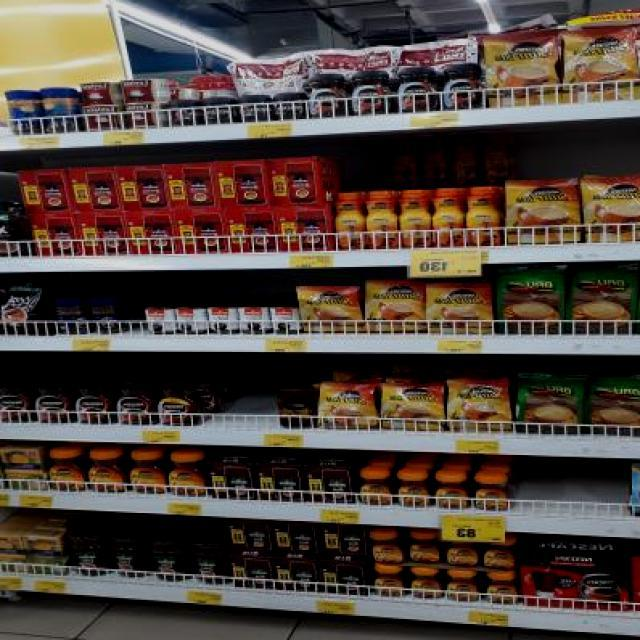Coffee: (483, 30, 561, 106), (564, 28, 636, 102), (508, 178, 576, 247), (587, 176, 640, 242), (447, 380, 510, 430), (430, 284, 490, 332), (383, 382, 444, 428), (366, 282, 424, 330), (302, 287, 360, 332), (318, 383, 376, 427), (467, 186, 503, 247), (158, 380, 204, 424), (439, 61, 481, 109), (350, 70, 391, 117), (396, 65, 434, 113), (400, 189, 430, 248), (368, 190, 398, 249), (336, 192, 365, 250), (434, 188, 462, 248), (308, 74, 346, 118), (76, 378, 112, 424), (36, 379, 72, 423), (116, 380, 152, 424), (170, 450, 206, 494), (88, 451, 126, 492), (129, 451, 164, 494), (474, 474, 512, 511), (0, 378, 32, 421), (52, 451, 84, 492), (398, 472, 432, 507), (436, 472, 468, 508), (484, 536, 520, 568), (360, 471, 392, 505), (198, 96, 235, 125), (487, 571, 520, 603), (447, 533, 479, 565), (372, 566, 404, 598), (371, 530, 402, 562), (411, 568, 442, 599), (411, 532, 440, 563), (448, 572, 480, 600), (238, 94, 269, 122), (273, 92, 303, 120), (170, 99, 200, 126)
